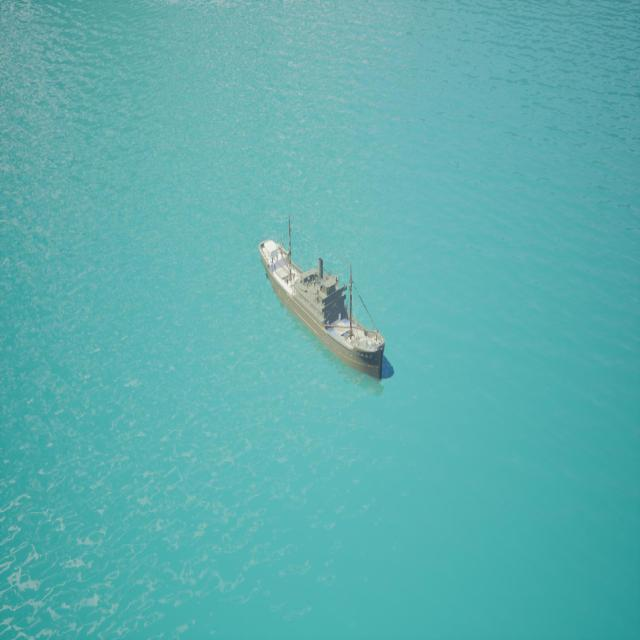fishing ship: (258, 241, 388, 380)
